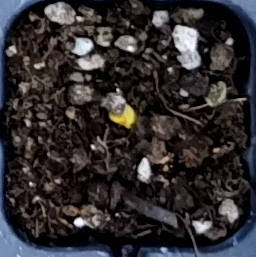chilli seed: (109, 114, 136, 129)
